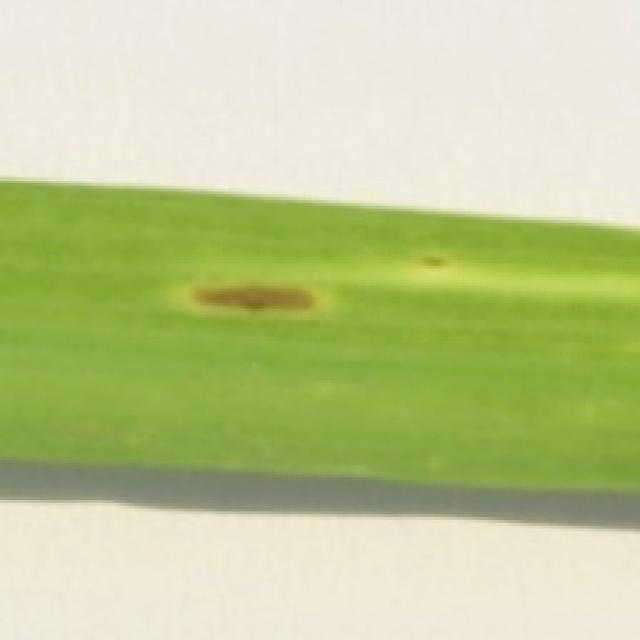Unhealthy: (377, 247, 640, 301), (163, 263, 327, 322)
